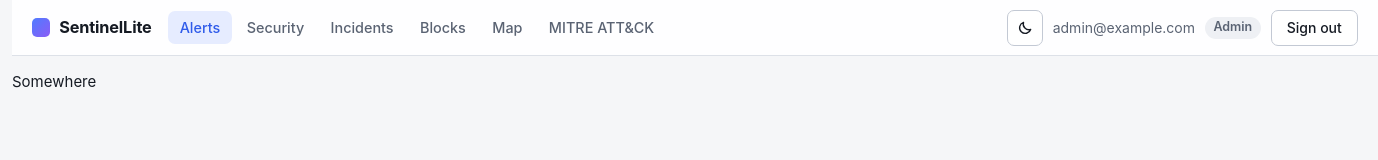
Test: TopBar › signs out and goes to the login page
Click the button "Sign out" at (1314, 28), box [1271,10,1358,46]
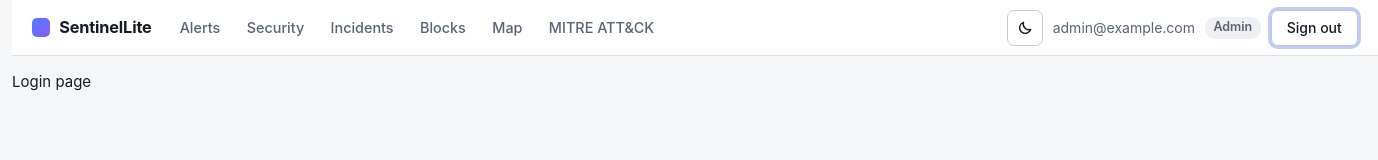
Now the text "Login page" is shown, box [12,72,91,91]
